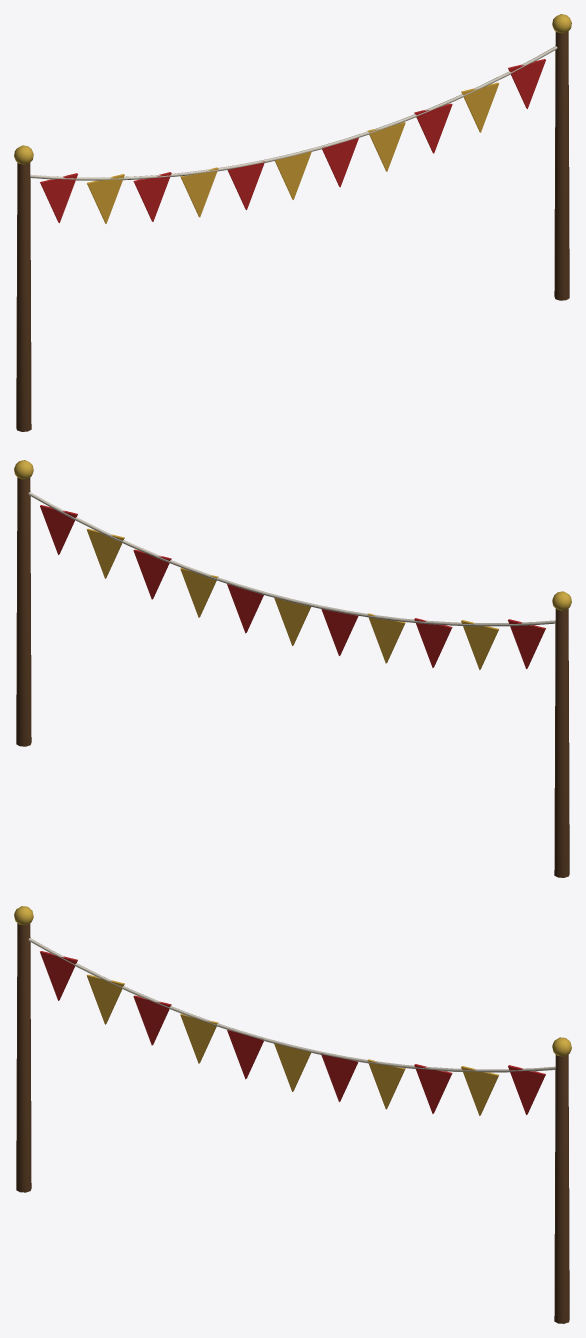
File: bunting_lunar.glb
The picture shows the model from 3 angles, top to bottom: view 1: azimuth 30°, elevation 25°; view 2: azimuth 150°, elevation 25°; view 3: azimuth 330°, elevation 25°; orthographic projection.
Parts seen in each view (by area): view 1: bunting_lunar_main; view 2: bunting_lunar_main; view 3: bunting_lunar_main.
Part boxes in pixels (x1,y1,x2,y2): bunting_lunar_main: (14, 14, 571, 431); bunting_lunar_main: (14, 460, 571, 877); bunting_lunar_main: (14, 906, 571, 1323).
Bounding box in the file's own units: 2.85 × 1.38 × 0.09.
